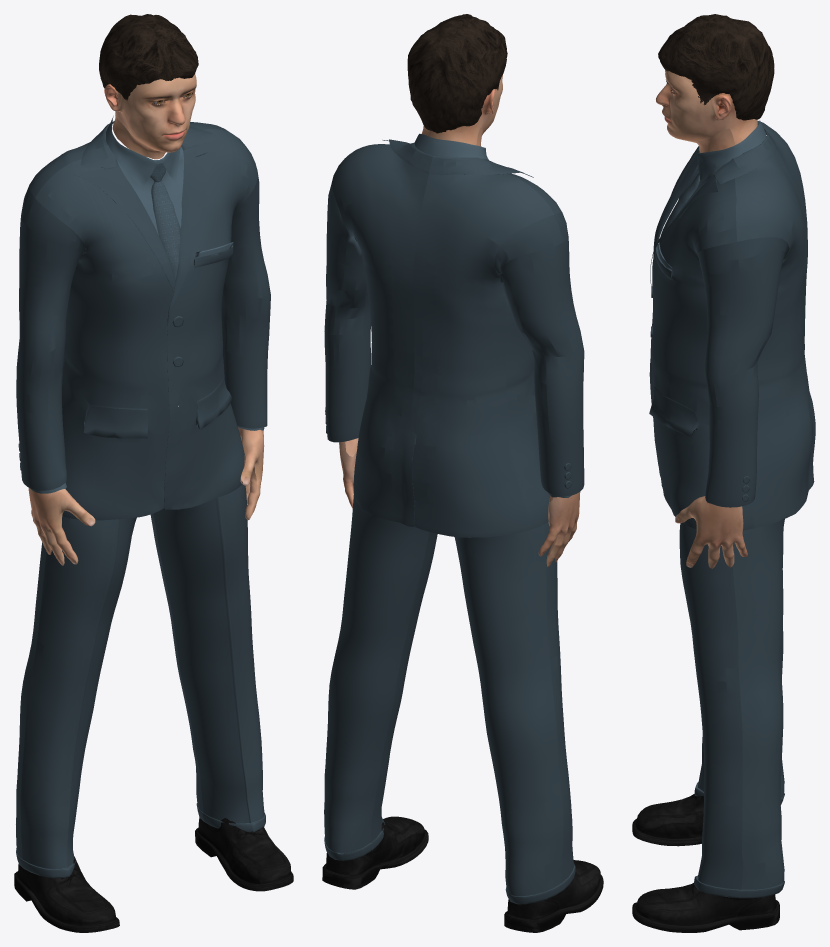
The model's file is suit.glb.
3 views of the same model, side by side, from view 1: azimuth 30°, elevation 25°; view 2: azimuth 150°, elevation 25°; view 3: azimuth 270°, elevation 25° (orthographic).
Parts seen in each view (by area): view 1: clothing, skin, shoes, hair; view 2: clothing, hair, shoes, skin; view 3: clothing, shoes, hair, skin.
Boxes of the visible parts, left/top/right/bottom form: clothing: left=16, top=116, right=270, bottom=878; skin: left=28, top=74, right=264, bottom=565; shoes: left=14, top=817, right=293, bottom=932; hair: left=99, top=14, right=198, bottom=100; clothing: left=324, top=133, right=584, bottom=904; hair: left=407, top=14, right=507, bottom=133; shoes: left=322, top=816, right=603, bottom=932; skin: left=339, top=75, right=580, bottom=567; clothing: left=649, top=120, right=815, bottom=898; shoes: left=632, top=794, right=779, bottom=932; hair: left=658, top=14, right=774, bottom=120; skin: left=656, top=70, right=757, bottom=568.
Size of the model in its own units: 0.5447 by 1.82 by 0.3524.
9 materials, 9 textured.
